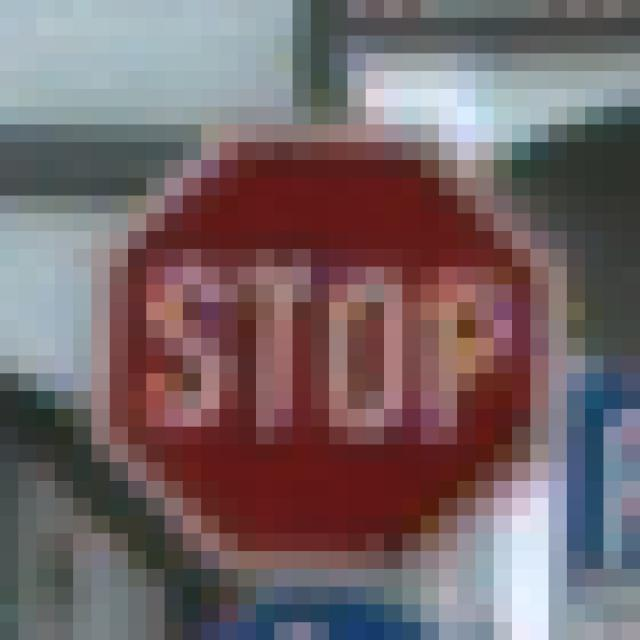STOP: (93, 108, 532, 534)
